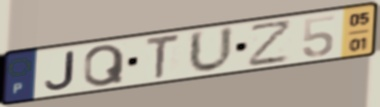5: (300, 13, 337, 59)
J: (42, 49, 76, 92)
Q: (82, 42, 127, 89)
T: (144, 31, 182, 82)
U: (187, 24, 236, 75)
Z: (247, 17, 294, 69)
